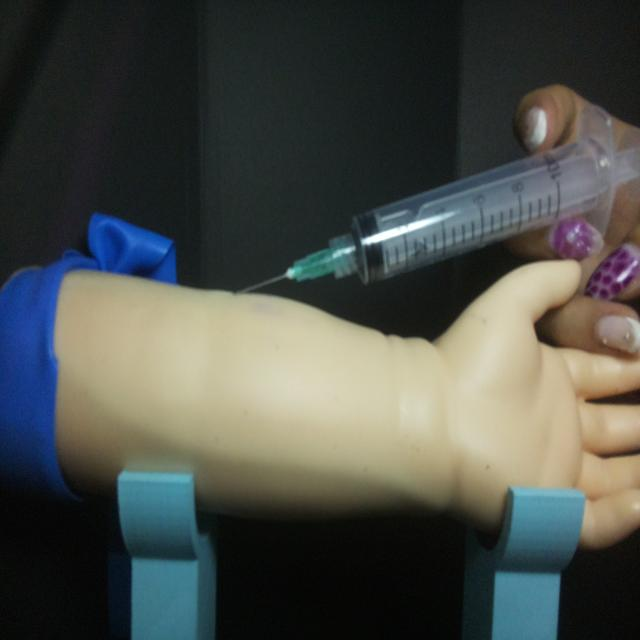21deg: (232, 103, 636, 300)
